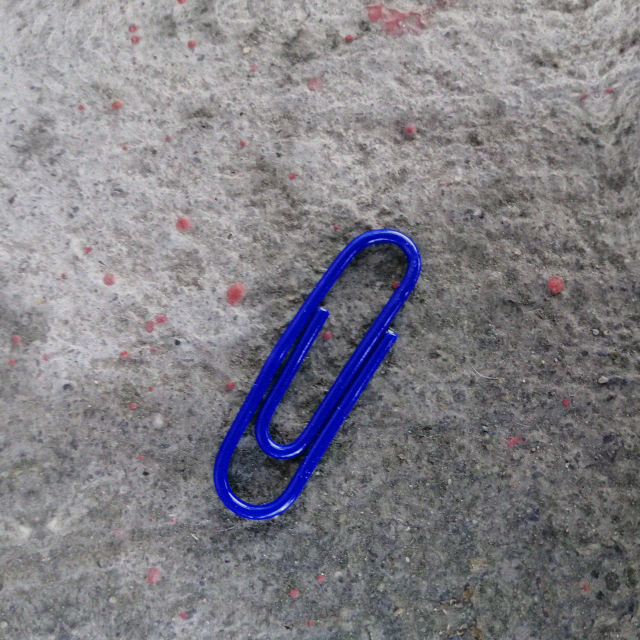pin: (171, 221, 465, 537)
